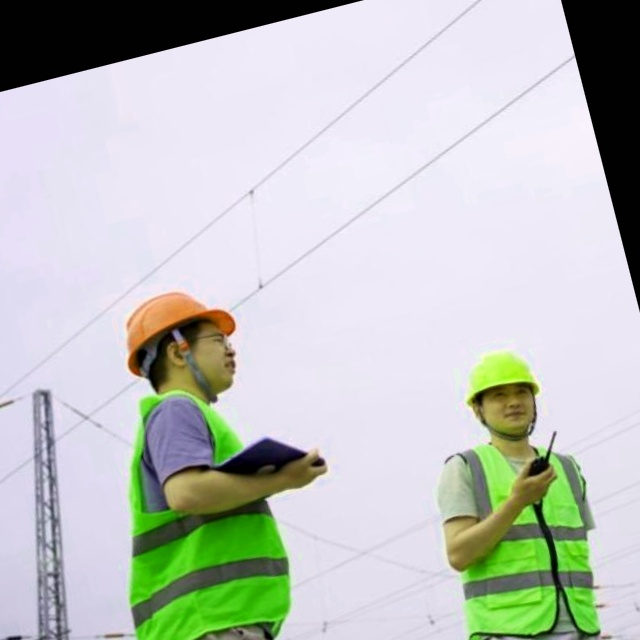Con_Casco: (113, 278, 249, 408), (455, 343, 550, 448)
Con_Chaleco: (85, 378, 310, 640), (427, 421, 621, 640)
